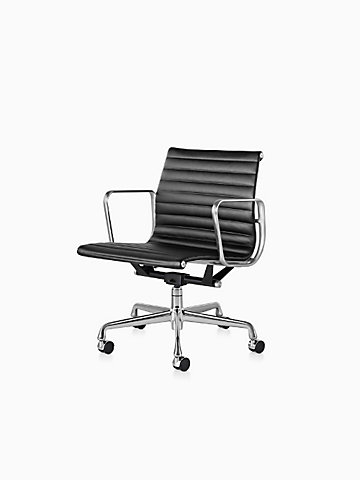chairs: (84, 143, 274, 373)
